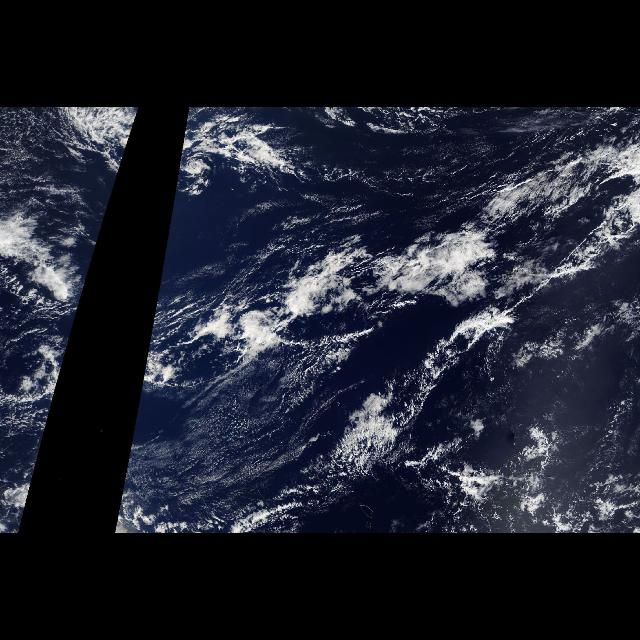Fish: (176, 189, 638, 523)
Gravel: (297, 136, 505, 218)
Sugar: (119, 356, 347, 508), (240, 168, 464, 240), (4, 110, 98, 224)
